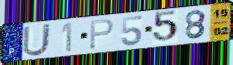1: (61, 21, 74, 54)
5: (152, 9, 180, 45), (120, 15, 143, 47)
8: (184, 9, 206, 40)
P: (88, 18, 115, 51)
U: (21, 22, 52, 58)
